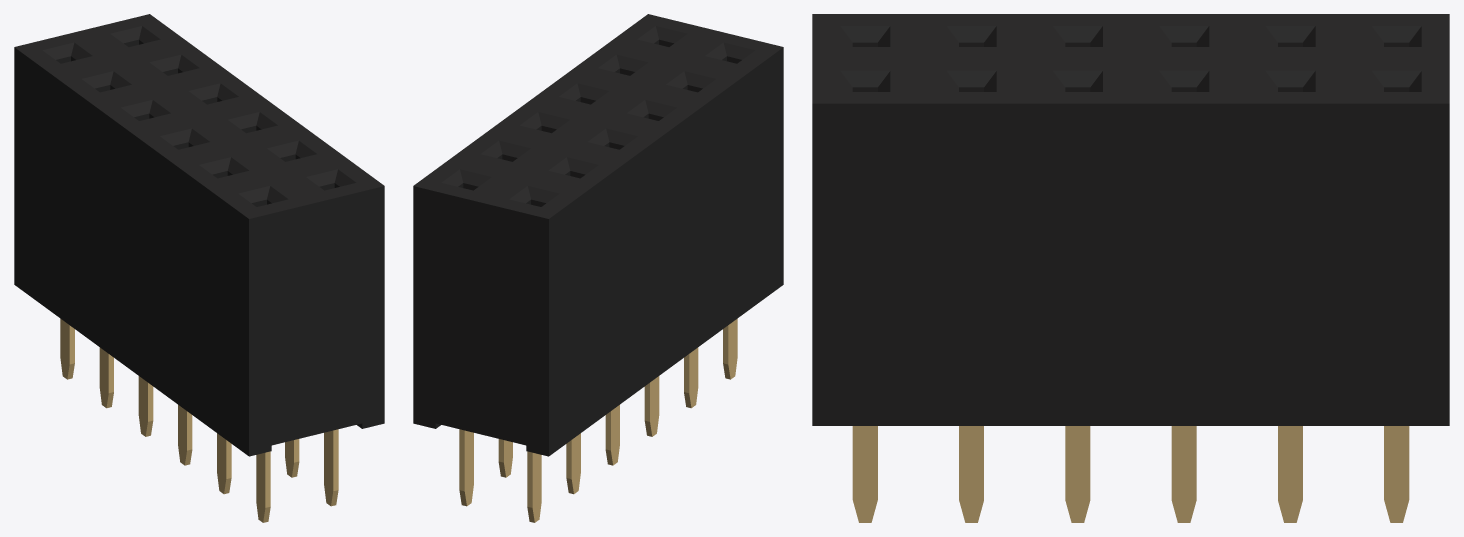
File: PinSocket_2x06_P2.54mm_Vertical.glb
3 renders of one model, left to right at view 1: azimuth 30°, elevation 25°; view 2: azimuth 150°, elevation 25°; view 3: azimuth 270°, elevation 25°, orthographic. The views are drawn at different scales.
Parts seen in each view (by area): view 1: =>[0:1:1:3]; view 2: =>[0:1:1:3]; view 3: =>[0:1:1:3].
Part boxes in pixels (x1,y1,x2,y2): =>[0:1:1:3]: (14, 14, 384, 522); =>[0:1:1:3]: (413, 14, 783, 522); =>[0:1:1:3]: (812, 14, 1449, 522).
Bounding box in the file's own units: 0.00508 × 0.0116 × 0.0152.
